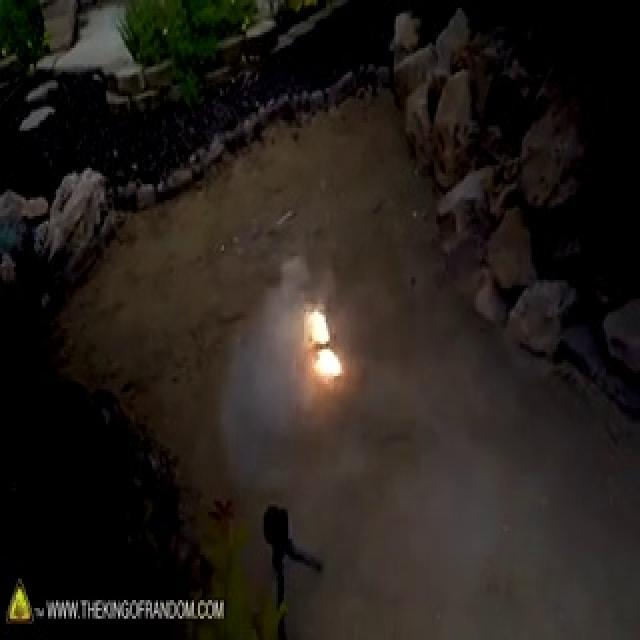fire: (311, 272, 353, 370)
